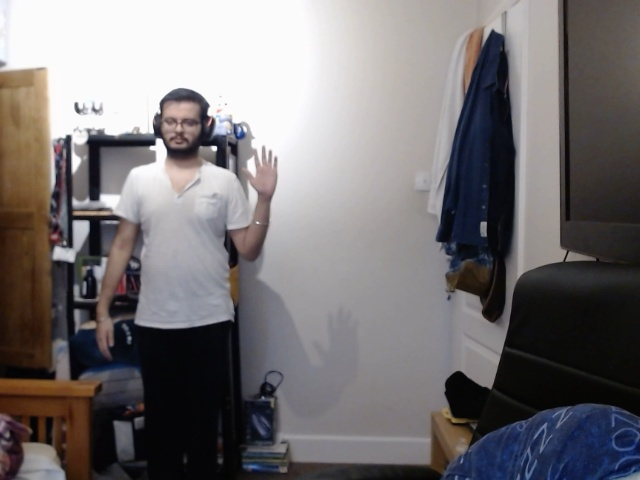Hello: (243, 144, 284, 202)
